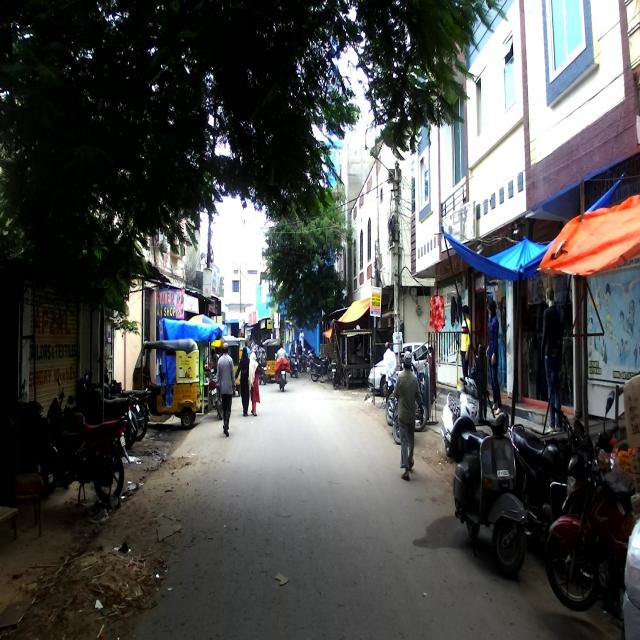autorickshaw: (132, 338, 201, 430)
car: (368, 341, 427, 397)
motorcycle: (544, 448, 640, 625), (507, 406, 595, 553), (40, 378, 131, 504), (593, 390, 619, 458)
scooter: (451, 412, 528, 576), (441, 376, 478, 456)
